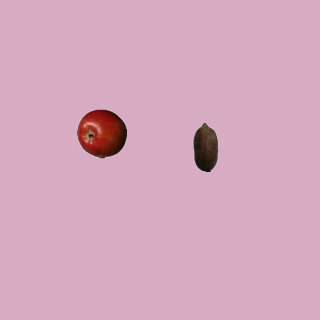Apple Braeburn: (76, 108, 126, 158)
Nut Pecan: (180, 121, 230, 171)
